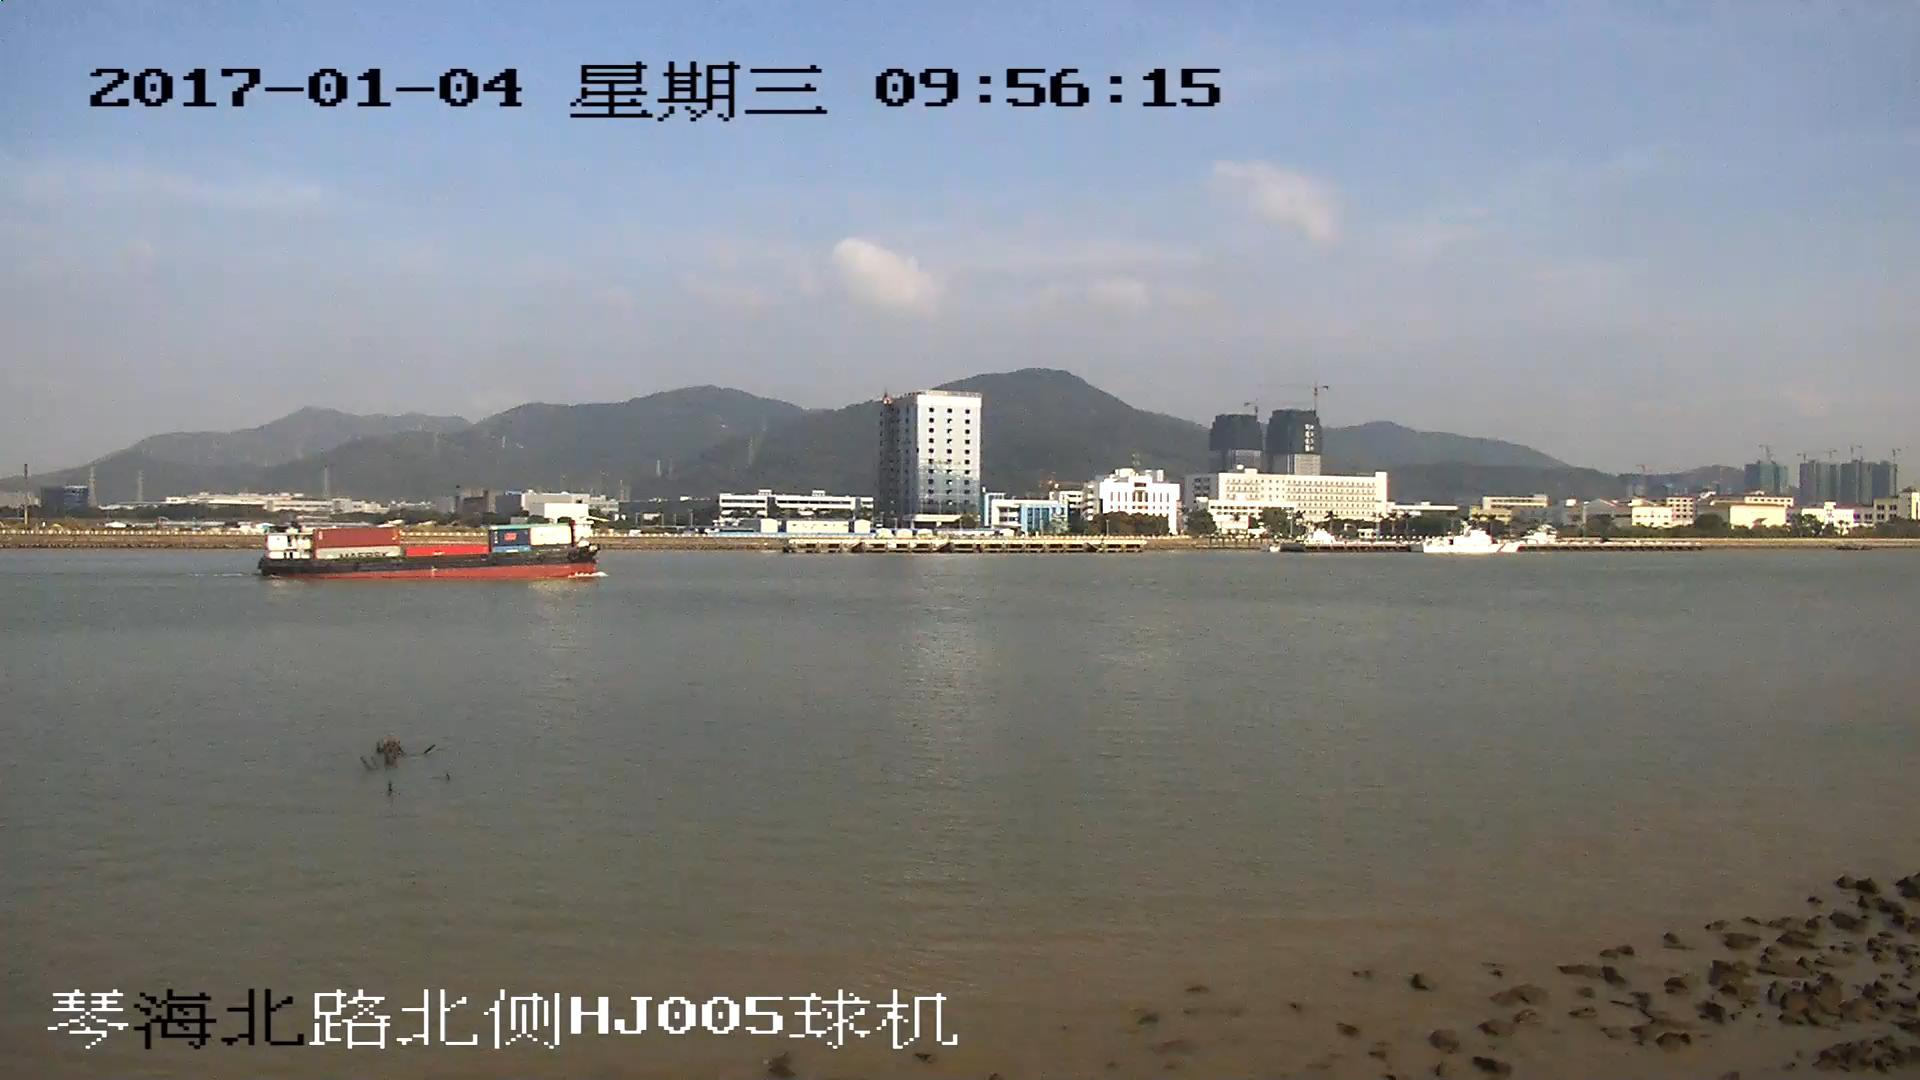Ship: (258, 521, 596, 584)
